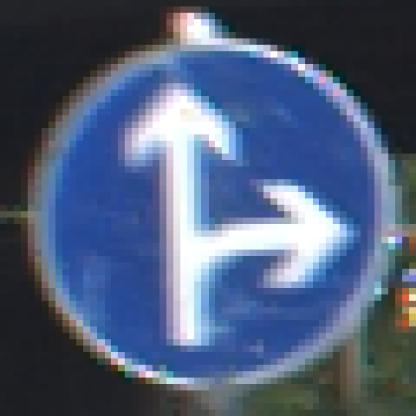Straight or Right: (36, 40, 382, 379)
